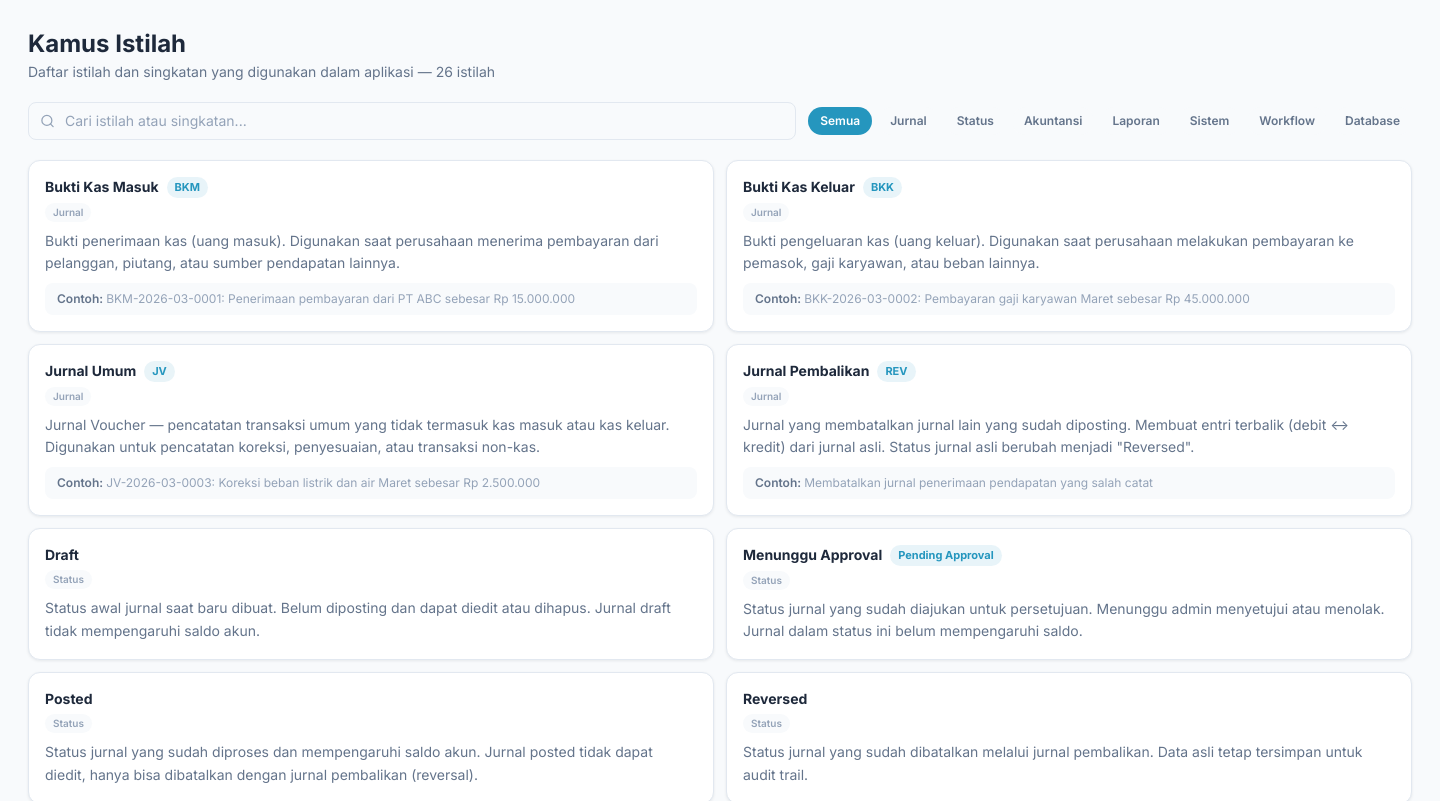
Test: GlossaryPage › tombol Semua reset filter kategori
This screenshot has width=1440, height=801.
Click the button "Jurnal" at (908, 121), box x1=878 y1=107 x2=939 y2=135
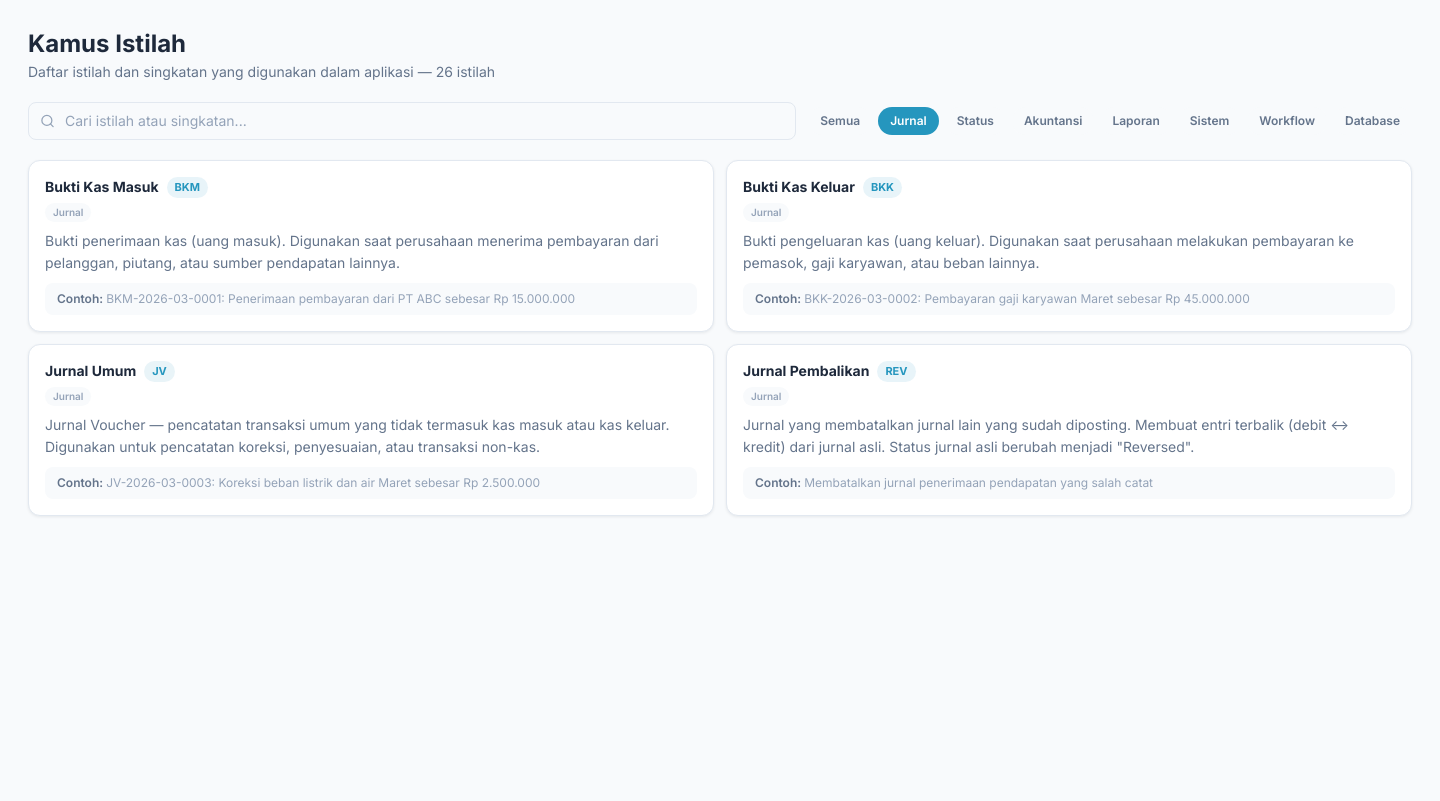
Click the button "Semua" at (840, 121), box x1=808 y1=107 x2=872 y2=135
(page scrolled)
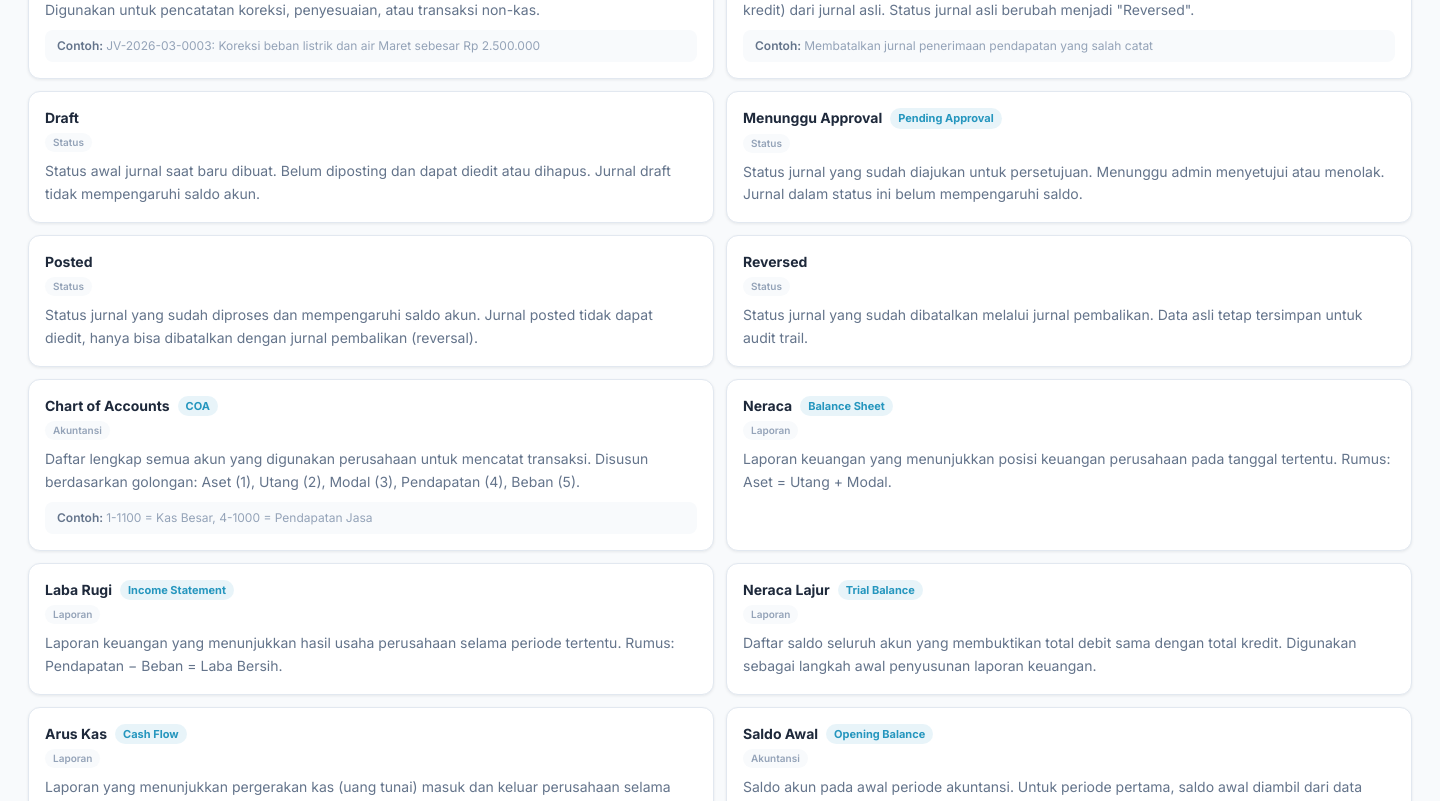
Check: the heading "Neraca" is shown, box x1=743 y1=396 x2=792 y2=416
